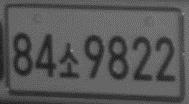2: (154, 36, 177, 83), (132, 35, 153, 82)
4: (33, 34, 57, 79)
8: (11, 32, 33, 77), (107, 34, 129, 79)
9: (83, 34, 105, 80)
소: (58, 43, 81, 80)
